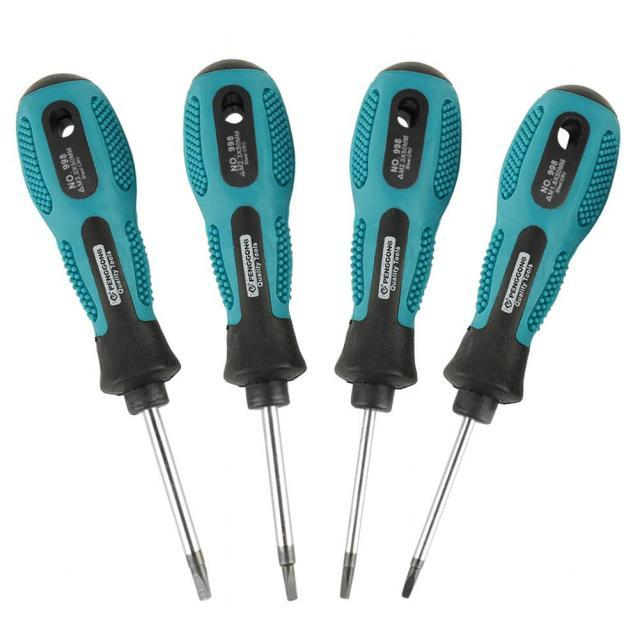screwdriver: (391, 78, 628, 608), (12, 66, 216, 608), (330, 57, 466, 610), (180, 55, 314, 608)
